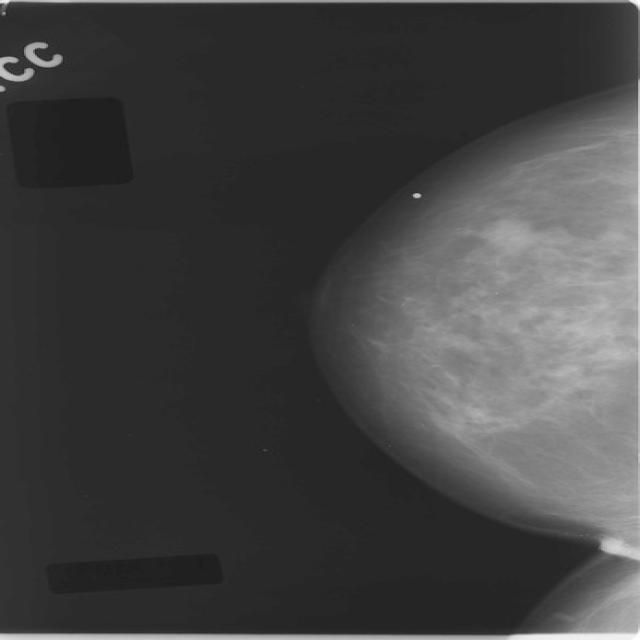tumour: (478, 217, 531, 252)
